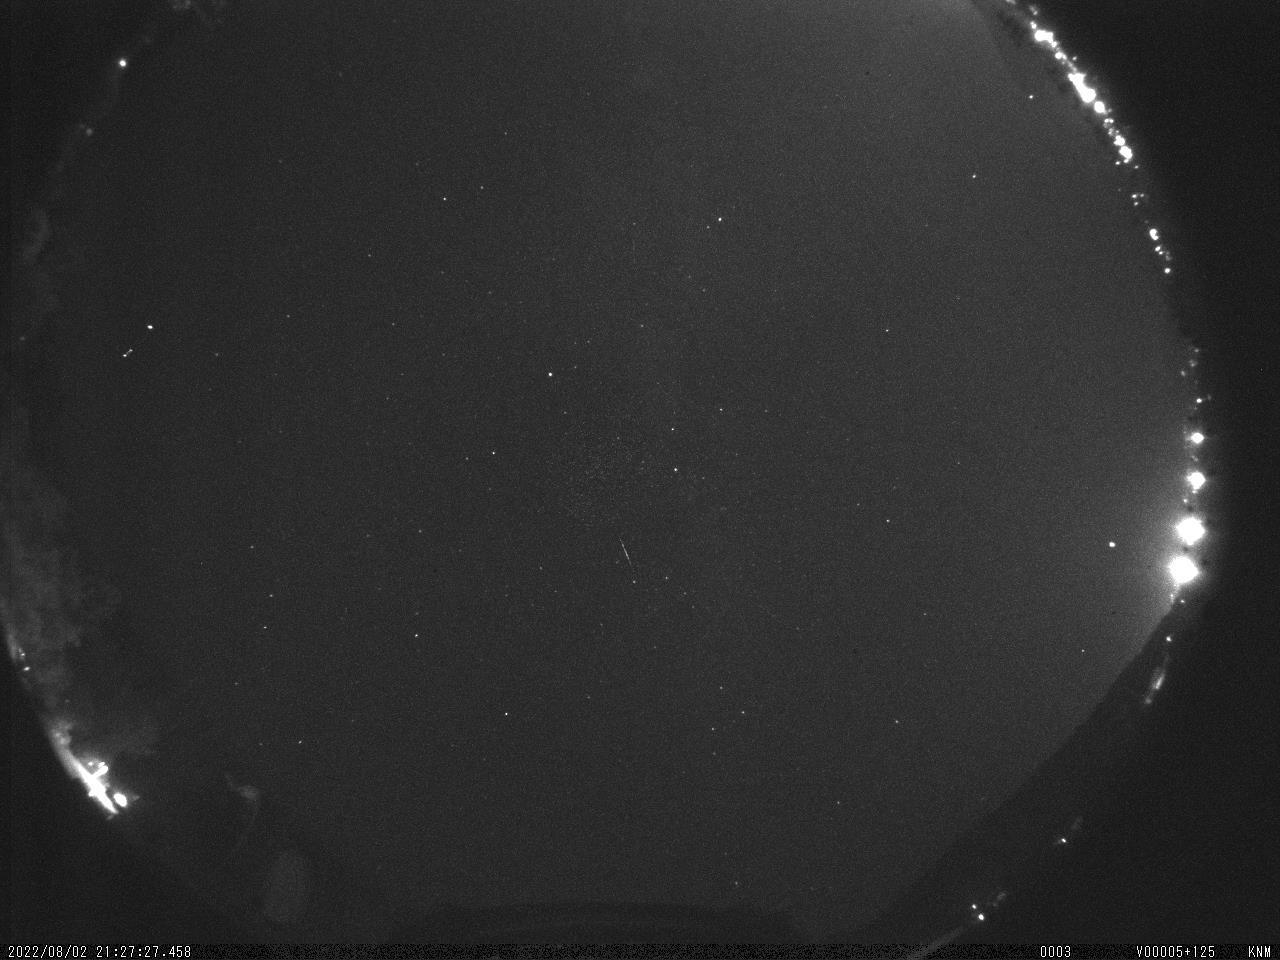Meteor: (612, 530, 642, 579)
